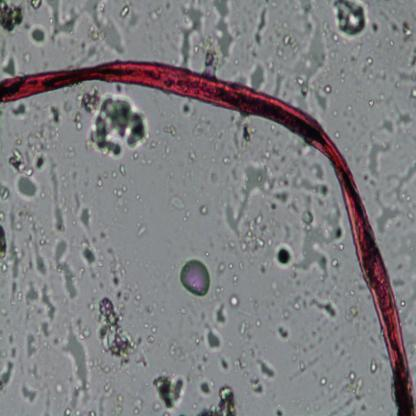Air bubble: (176, 256, 212, 297)
Background material: (285, 156, 346, 282), (224, 156, 288, 254), (283, 0, 335, 116), (72, 86, 149, 161), (92, 282, 146, 376), (43, 0, 124, 58), (7, 123, 60, 201), (60, 316, 93, 412), (8, 207, 49, 283), (201, 0, 236, 77), (21, 281, 57, 338), (280, 288, 337, 322), (370, 184, 404, 238), (51, 236, 79, 301), (330, 0, 369, 46), (315, 369, 364, 405), (177, 0, 201, 66), (152, 370, 186, 414), (363, 132, 395, 176), (49, 164, 69, 233), (100, 247, 128, 295), (95, 161, 129, 200), (198, 382, 237, 415), (204, 301, 228, 354), (188, 108, 222, 144), (207, 256, 240, 293), (72, 190, 95, 237), (0, 333, 18, 392), (230, 110, 252, 158), (379, 102, 411, 134), (250, 6, 270, 56), (251, 359, 278, 396), (352, 46, 379, 82), (97, 380, 124, 413), (78, 240, 104, 274), (238, 318, 260, 358), (0, 0, 23, 33), (218, 351, 248, 376), (387, 20, 416, 45), (390, 258, 410, 294), (142, 137, 166, 164), (393, 67, 416, 95), (24, 21, 47, 49), (162, 340, 190, 363), (22, 332, 40, 367), (172, 144, 202, 165), (248, 63, 268, 94), (274, 242, 294, 272), (20, 378, 41, 406), (338, 99, 358, 128), (117, 7, 141, 30), (65, 104, 87, 129), (122, 392, 146, 414), (342, 302, 362, 328), (0, 210, 8, 275), (6, 100, 32, 120), (140, 318, 160, 344), (144, 1, 165, 24), (0, 50, 17, 78), (45, 100, 63, 125), (195, 375, 215, 397), (168, 191, 186, 212), (367, 354, 380, 379), (197, 354, 212, 374), (160, 122, 177, 138), (179, 101, 194, 119), (258, 260, 274, 276), (338, 66, 350, 86), (274, 325, 290, 340), (228, 290, 240, 309), (369, 19, 381, 37), (134, 223, 147, 238), (24, 50, 33, 66), (198, 204, 210, 216), (30, 0, 43, 11), (292, 358, 305, 369), (0, 186, 8, 203), (368, 98, 379, 110), (271, 406, 283, 414), (137, 191, 144, 202), (182, 308, 187, 316), (336, 137, 340, 140)
Cotton: (0, 63, 414, 416)
